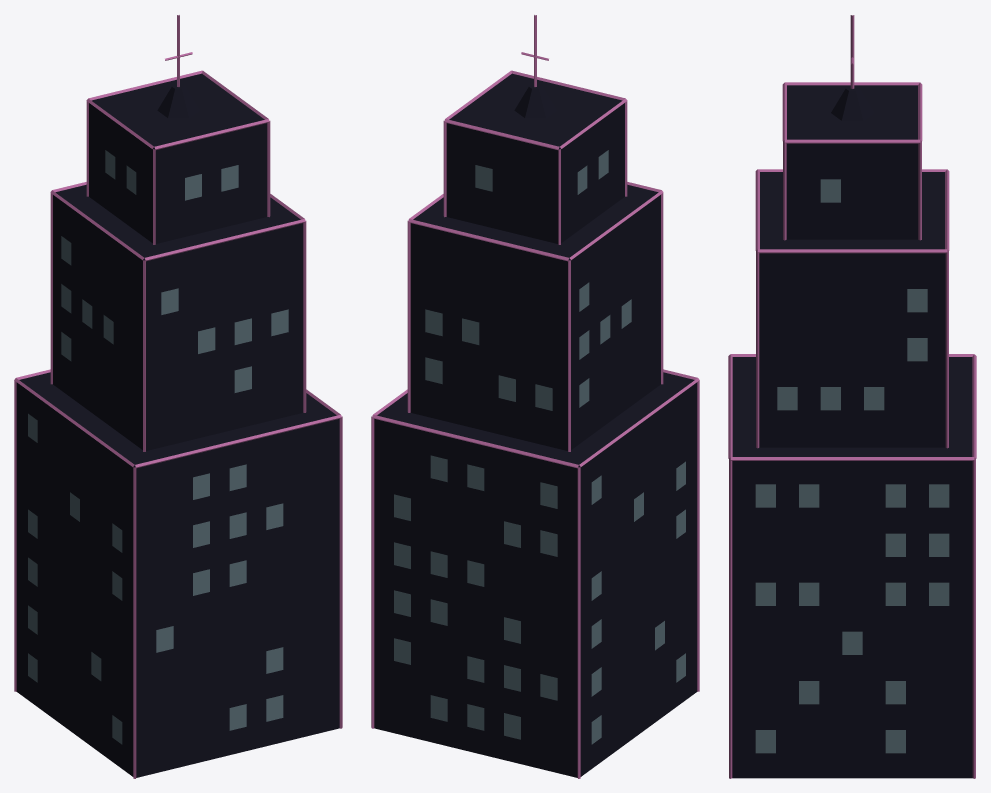
Rendered from tower_b.glb.
3 views of the same model, side by side, from view 1: azimuth 30°, elevation 25°; view 2: azimuth 150°, elevation 25°; view 3: azimuth 270°, elevation 25° (orthographic). The views are drawn at different scales.
Visible parts, largest first — view 1: root; view 2: root; view 3: root.
Boxes of the visible parts, <box> form: root: <box>14,15,342,778</box>; root: <box>371,15,699,778</box>; root: <box>728,15,976,778</box>.
Bounding box in the file's own units: 18.32 × 58 × 18.32.
